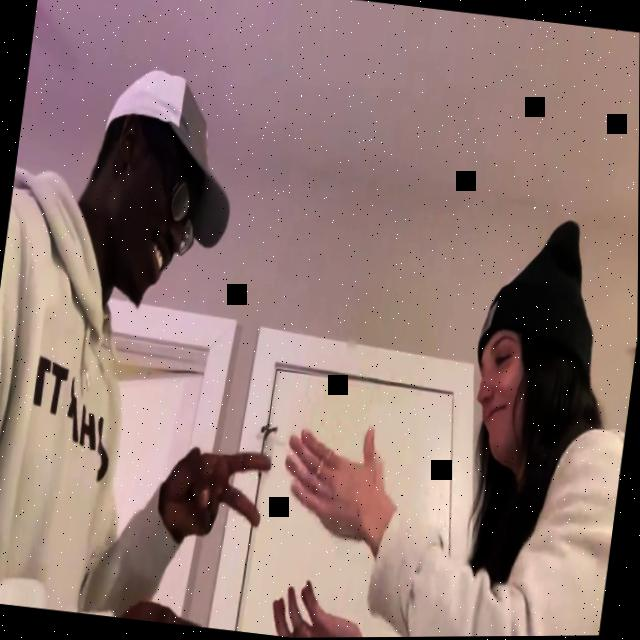Paper: (275, 417, 395, 547)
Scissors: (158, 438, 274, 556)
